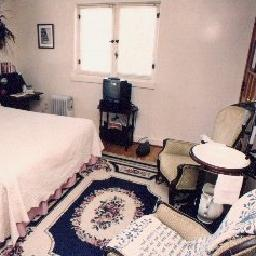Cama: (1, 102, 106, 246)
